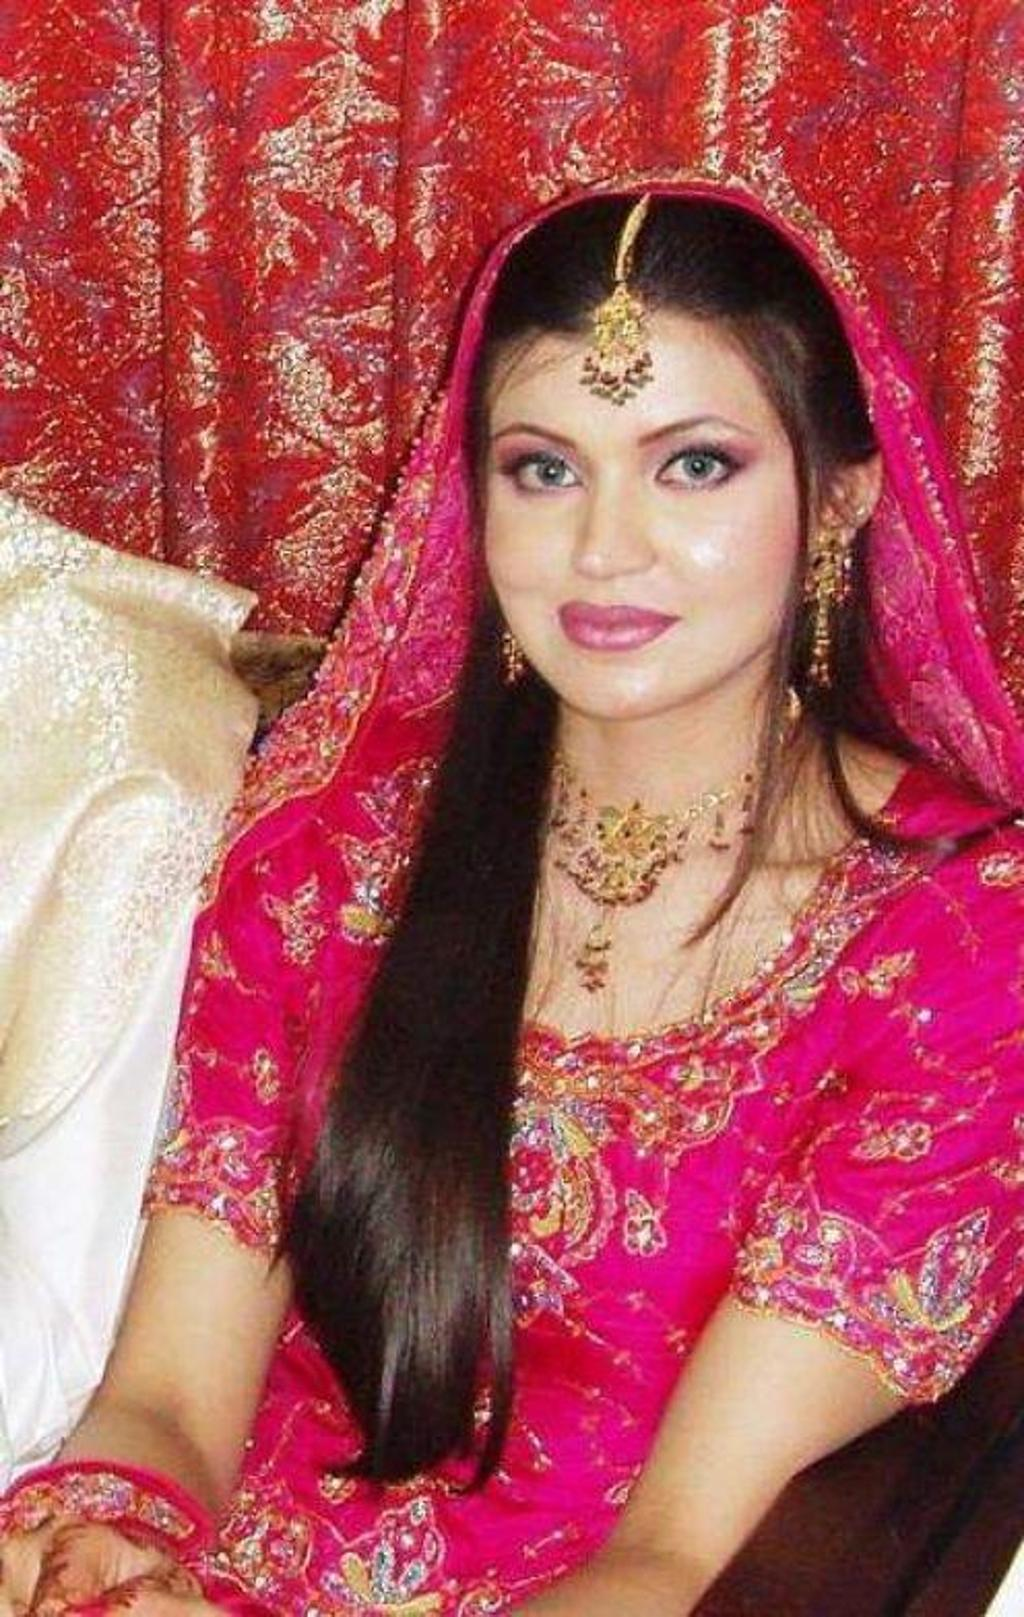face: (484, 316, 816, 717)
